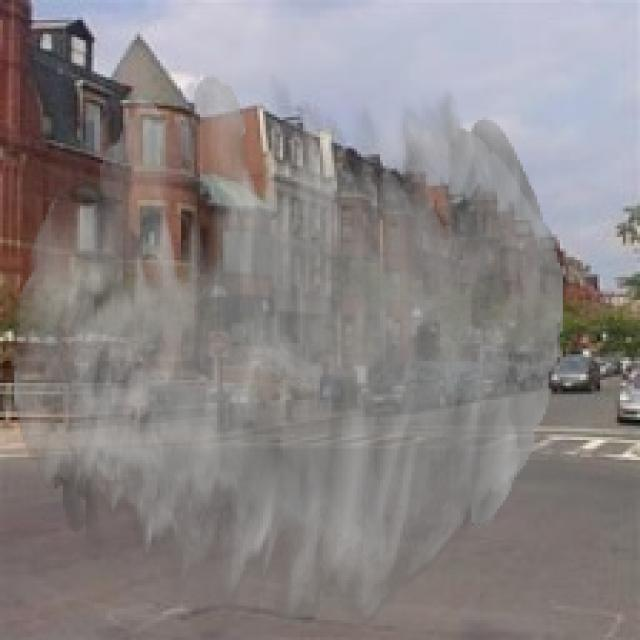Smoke: (11, 74, 563, 629)
